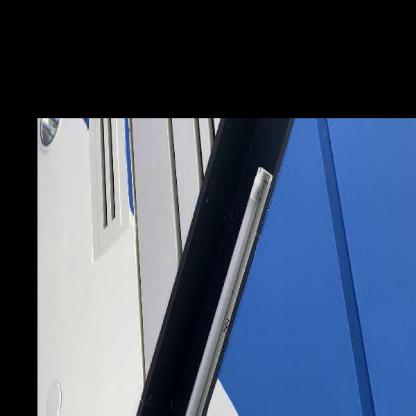light_off: (158, 156, 278, 415)
